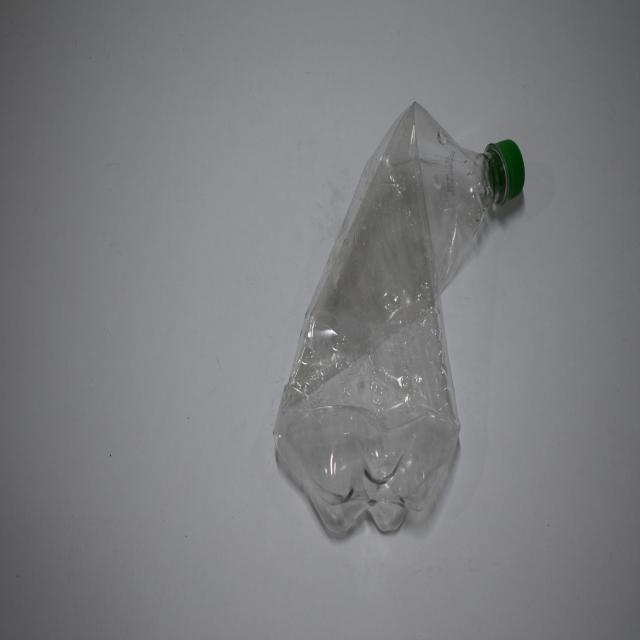bottle: (269, 93, 526, 534)
